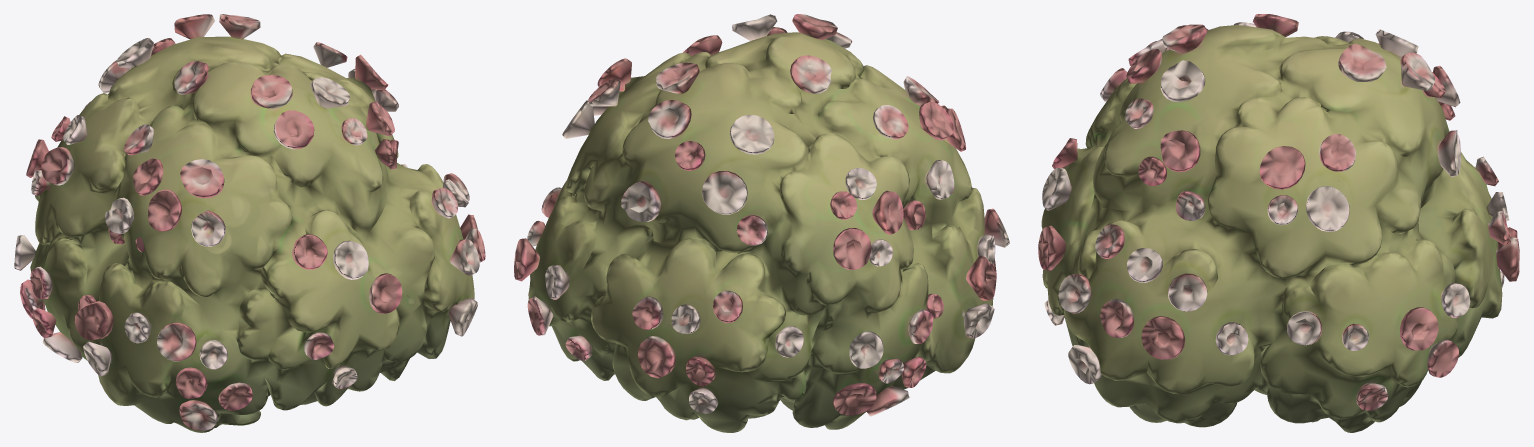
3 renders of one model, left to right at view 1: azimuth 30°, elevation 25°; view 2: azimuth 150°, elevation 25°; view 3: azimuth 270°, elevation 25°, orthographic. The views are drawn at different scales.
Parts seen in each view (by area): view 1: tripo_node_78c2ec82; view 2: tripo_node_78c2ec82; view 3: tripo_node_78c2ec82.
Boxes of the visible parts, bbox=[...] form: tripo_node_78c2ec82: bbox=[14, 14, 485, 432]; tripo_node_78c2ec82: bbox=[514, 14, 1009, 432]; tripo_node_78c2ec82: bbox=[1038, 14, 1519, 432].
Bounding box in the file's own units: 0.9995 × 0.8276 × 0.9995.
Materials: 1 (1 with a texture image).
